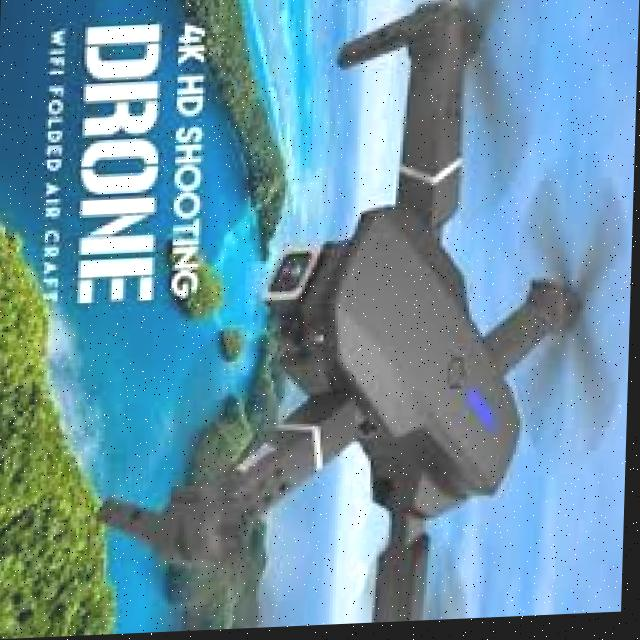drone: (85, 0, 640, 637)
